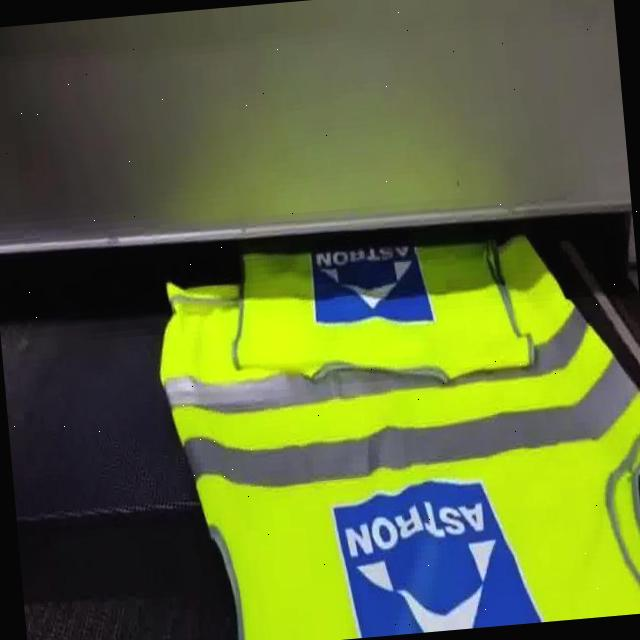vest: (150, 226, 640, 640)
